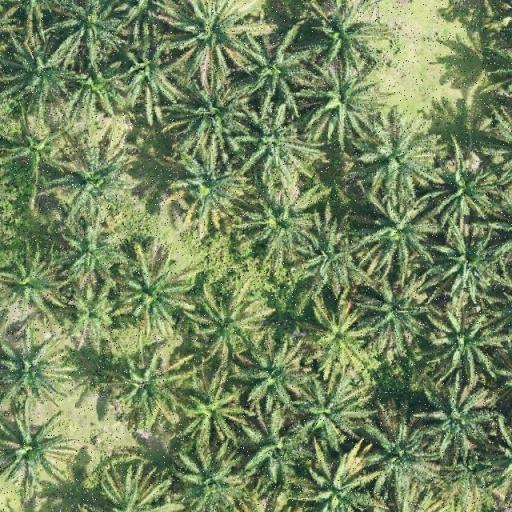Ganoderma: (311, 316, 366, 365)
